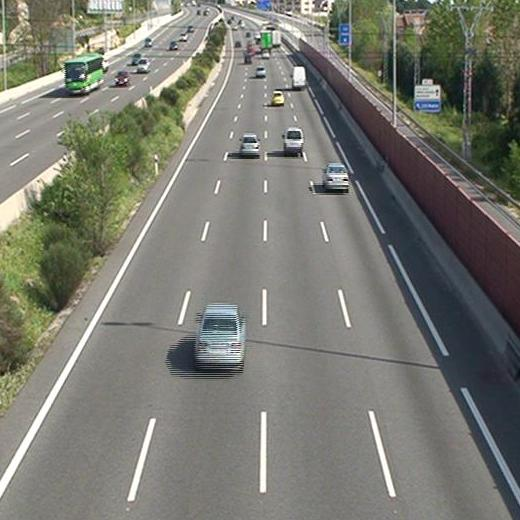car: (195, 303, 245, 364), (323, 164, 347, 190), (239, 134, 260, 156), (271, 91, 284, 104), (255, 65, 266, 77)
van: (282, 129, 304, 153), (291, 66, 306, 89)
